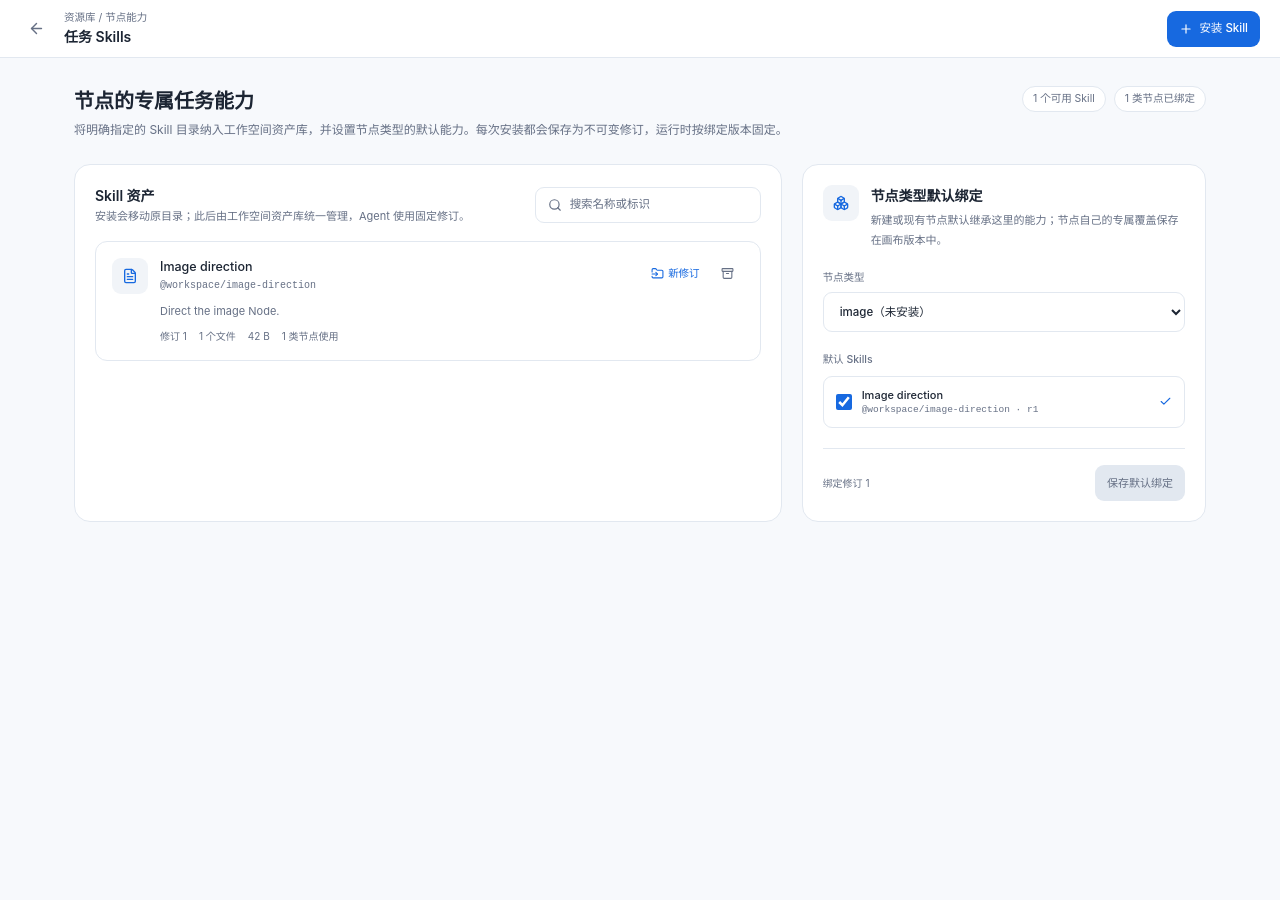
Test: SkillResourceManager › archives a Skill without removing its historical binding
Click the button named "归档 Image direction" at (728,274), box [712, 258, 744, 290]
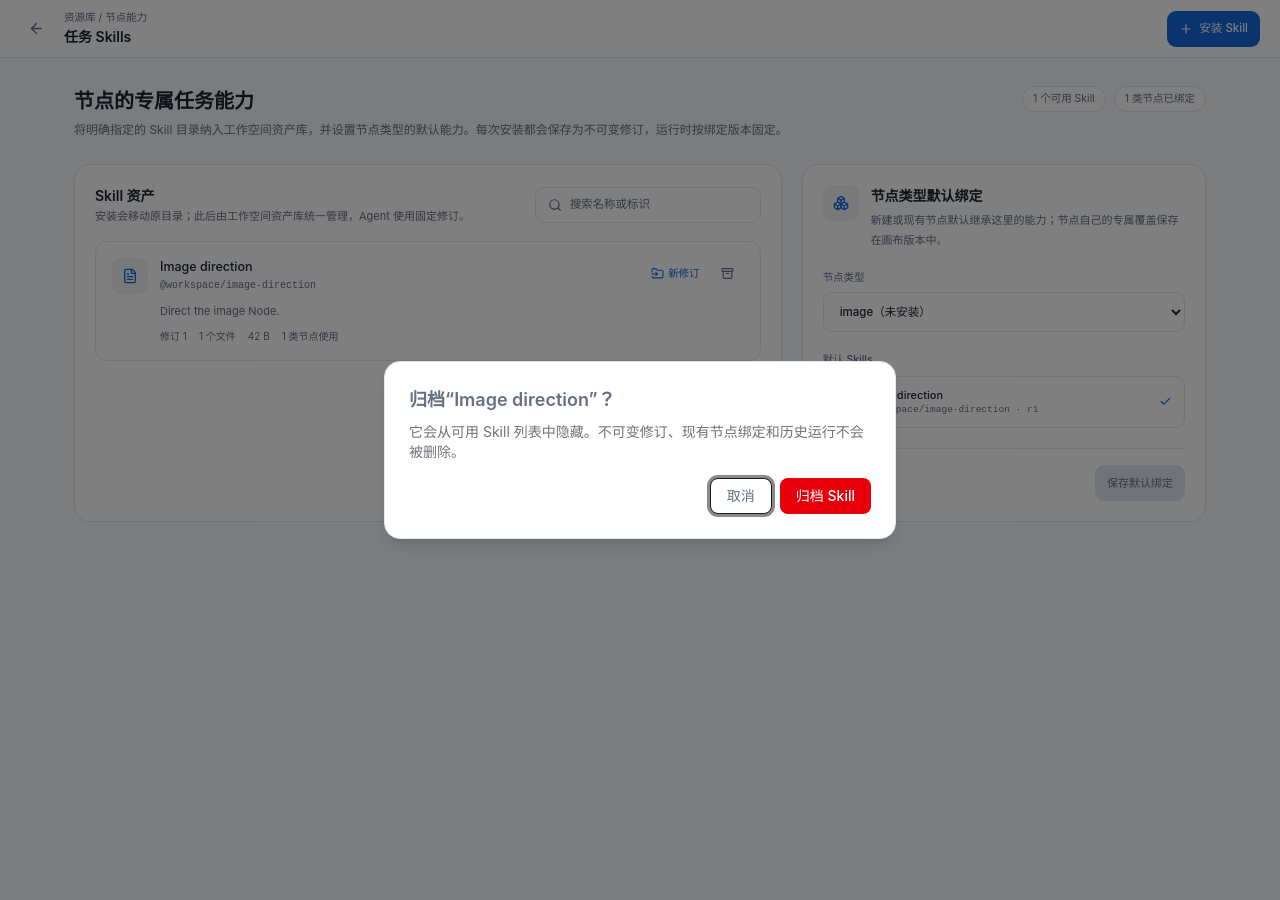
Result: the text "现有节点绑定和历史运行不会被删除" is shown at [409, 423, 864, 460]
Click the button "归档 Skill" at (825,496), box [780, 478, 871, 514]
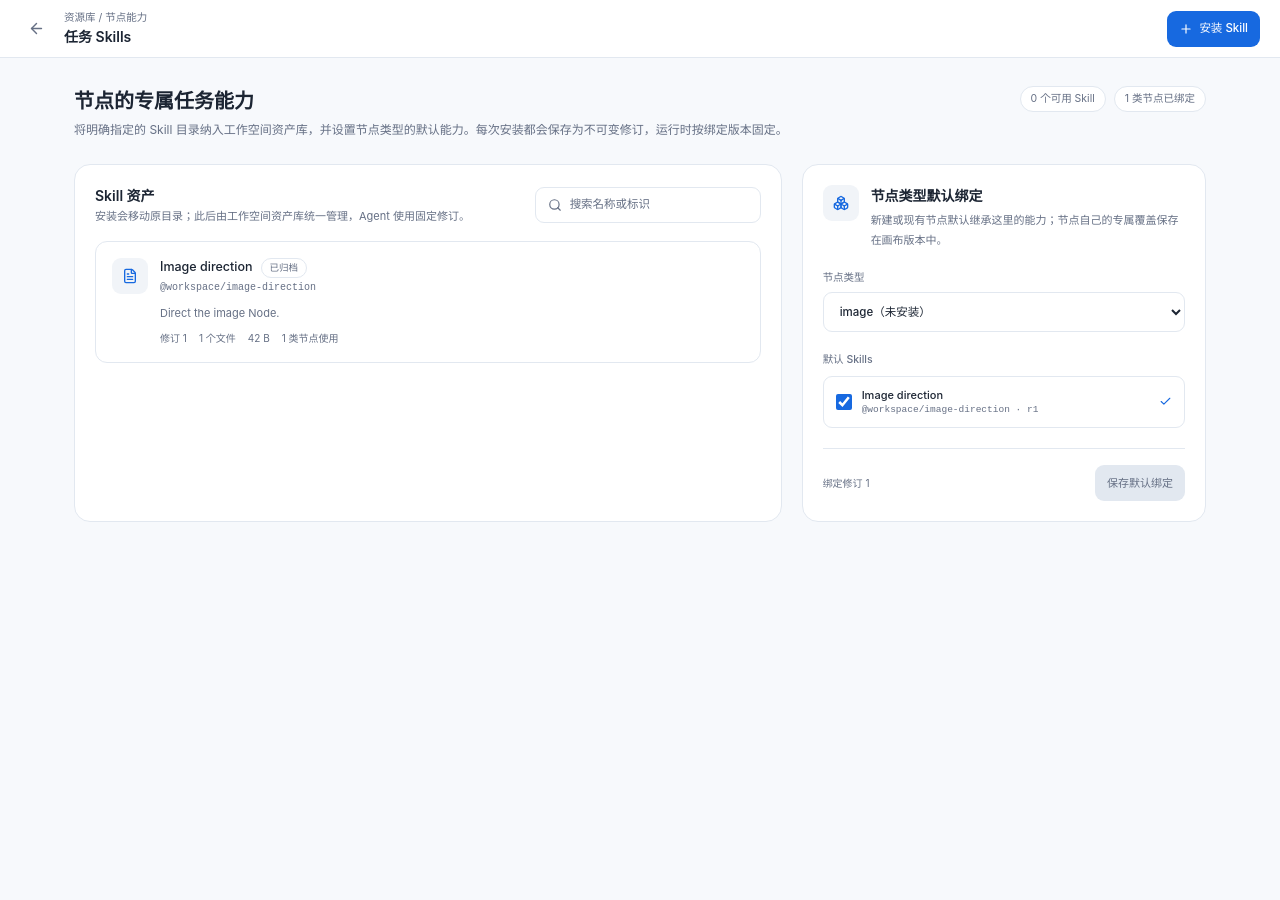
Expected: the text "1 类节点使用" is shown, [282, 331, 339, 346]
Result: the text "已归档" is shown at [260, 258, 307, 278]
